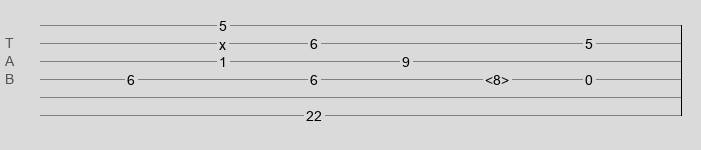0: (585, 72, 593, 82)
1: (219, 54, 227, 64)
22: (306, 108, 322, 118)
5: (219, 18, 227, 28), (585, 36, 593, 46)
6: (127, 72, 135, 82), (310, 36, 318, 46), (310, 72, 318, 82)
9: (402, 54, 410, 64)
harmonic: (485, 72, 509, 82)
x: (219, 37, 226, 45)
